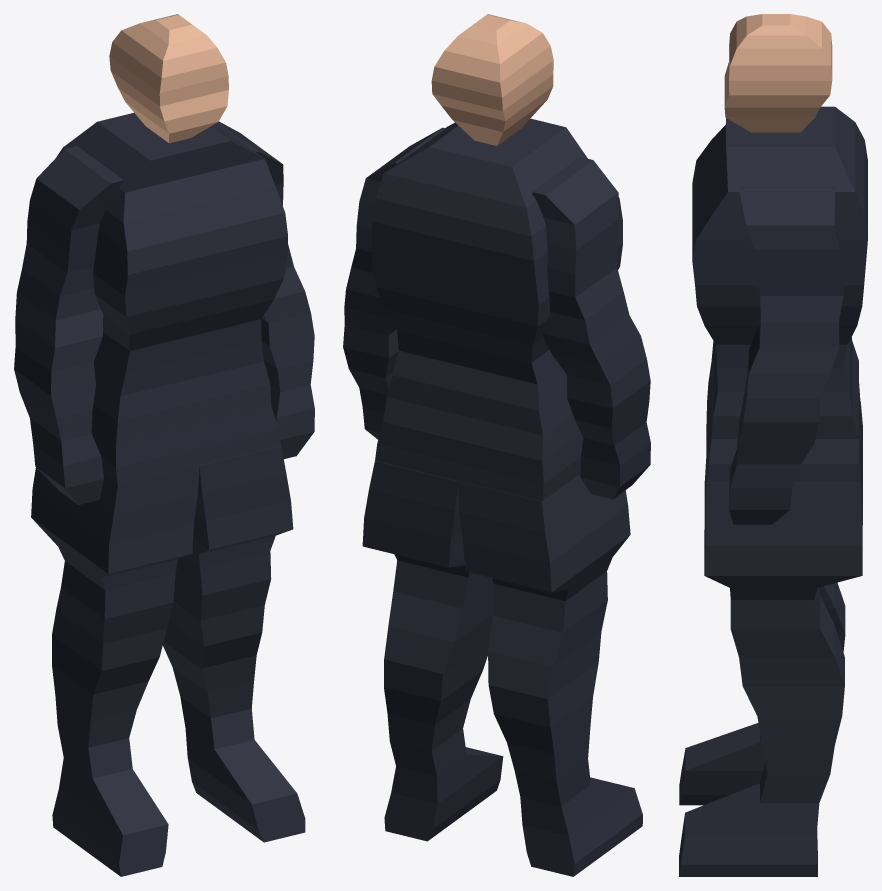
The model's file is player.fbx.
3 renders of one model, left to right at view 1: azimuth 30°, elevation 25°; view 2: azimuth 150°, elevation 25°; view 3: azimuth 270°, elevation 25°, orthographic. The views are drawn at different scales.
Visible parts, largest first — view 1: Chest, left.leg, left.leg.001, right.arm, head, left.arm; view 2: Chest, left.leg, left.leg.001, right.arm, head, left.arm; view 3: left.leg.001, Chest, left.arm, head, left.leg.
Part boxes in pixels (x1=…): Chest: x1=55, y1=113, x2=287, y2=484; left.leg: x1=31, y1=465, x2=199, y2=876; left.leg.001: x1=163, y1=445, x2=305, y2=842; right.arm: x1=14, y1=146, x2=123, y2=504; head: x1=109, y1=14, x2=228, y2=143; left.arm: x1=216, y1=121, x2=314, y2=458; Chest: x1=372, y1=118, x2=622, y2=501; left.leg: x1=458, y1=474, x2=642, y2=876; left.leg.001: x1=362, y1=461, x2=503, y2=841; right.arm: x1=532, y1=157, x2=650, y2=499; head: x1=431, y1=14, x2=553, y2=145; left.arm: x1=343, y1=127, x2=445, y2=439; left.leg.001: x1=679, y1=442, x2=862, y2=876; Chest: x1=692, y1=106, x2=867, y2=482; left.arm: x1=729, y1=186, x2=843, y2=524; head: x1=724, y1=14, x2=832, y2=132; left.leg: x1=679, y1=401, x2=862, y2=805.
Size of the model in its own units: 75 by 45.44 by 216.
